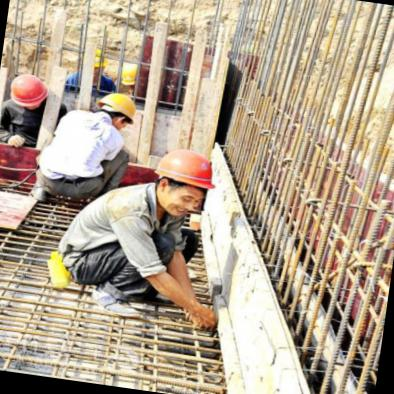helmet: (153, 146, 217, 191), (8, 72, 49, 108), (96, 92, 137, 127)
